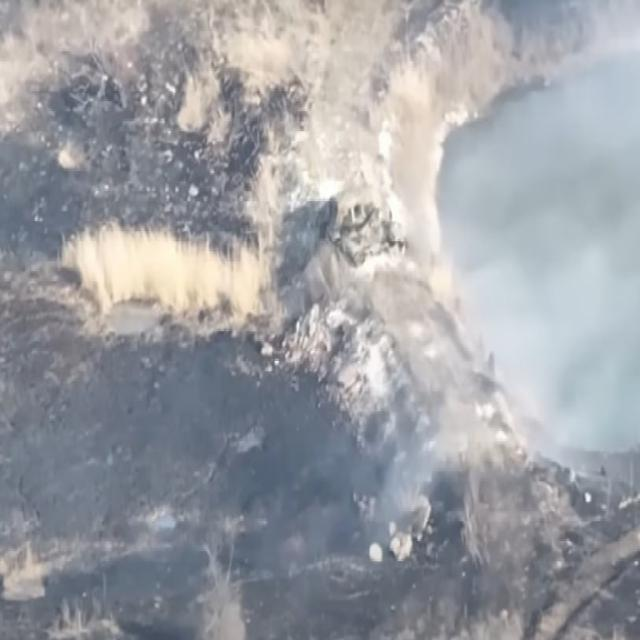TANK: (322, 169, 404, 280)
